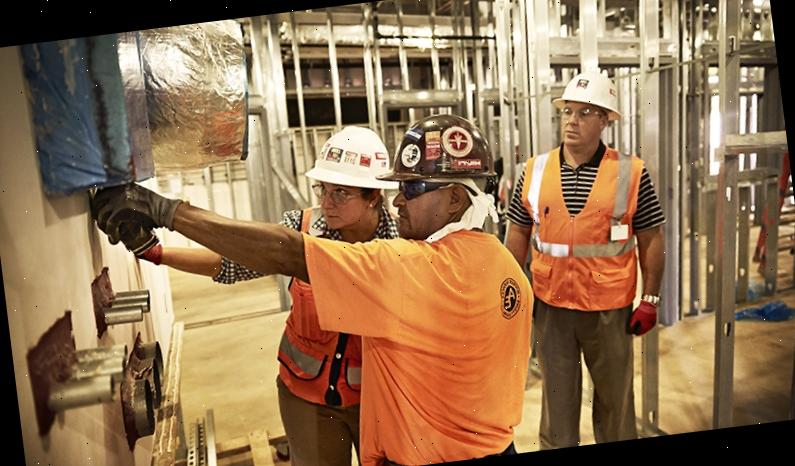helmet: (368, 107, 499, 195), (298, 119, 400, 200), (544, 67, 627, 126)
no_wear: (348, 230, 544, 463)
wear: (518, 140, 659, 322), (257, 227, 382, 411)
